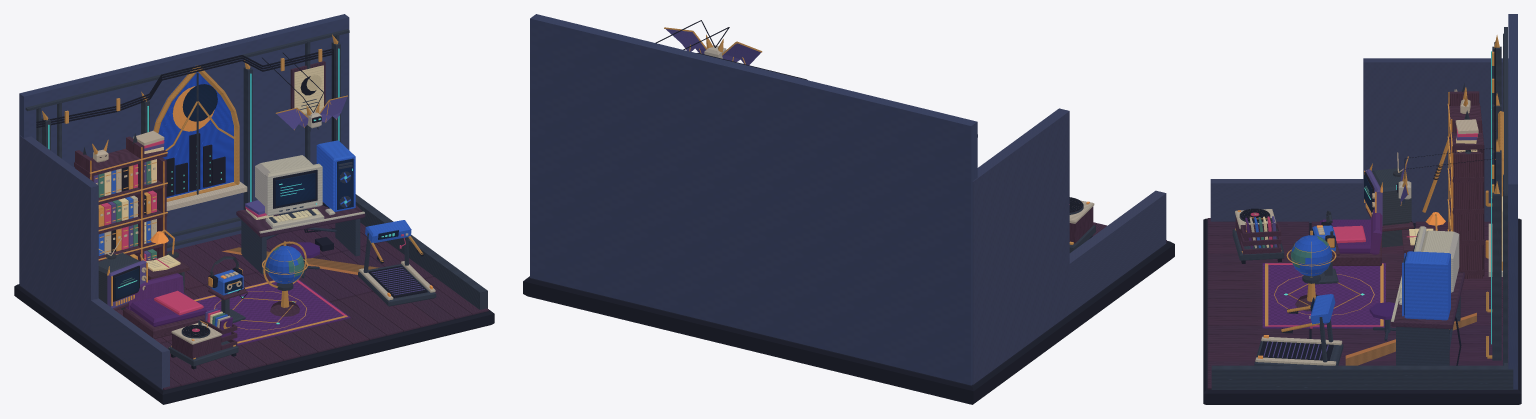
Rendered from diorama.78b659db397b.glb.
The picture shows the model from 3 angles, left to right: view 1: azimuth 30°, elevation 25°; view 2: azimuth 150°, elevation 25°; view 3: azimuth 270°, elevation 25°; orthographic projection. The views are drawn at different scales.
Parts seen in each view (by area): view 1: room-shell, body__play, body__read, body__move, body__collect, body__watch, body__listen, surface__travel, familiar-body, body__travel; view 2: room-shell, familiar-body, body__collect; view 3: room-shell, body__play, body__read, body__move, body__watch, body__collect, surface__travel, body__listen, body__travel, familiar-body.
Boxes of the visible parts, x1=… form: room-shell: x1=14, y1=14, x2=494, y2=404; body__play: x1=236, y1=140, x2=365, y2=278; body__read: x1=74, y1=130, x2=189, y2=292; body__move: x1=358, y1=220, x2=436, y2=306; body__collect: x1=168, y1=308, x2=238, y2=369; body__watch: x1=98, y1=238, x2=147, y2=310; body__listen: x1=208, y1=256, x2=247, y2=323; surface__travel: x1=266, y1=245, x2=304, y2=283; familiar-body: x1=275, y1=95, x2=347, y2=131; body__travel: x1=262, y1=241, x2=308, y2=316; room-shell: x1=523, y1=14, x2=1174, y2=404; familiar-body: x1=664, y1=27, x2=762, y2=64; body__collect: x1=1069, y1=200, x2=1095, y2=252; room-shell: x1=1203, y1=14, x2=1521, y2=404; body__play: x1=1369, y1=226, x2=1464, y2=365; body__read: x1=1402, y1=83, x2=1484, y2=278; body__move: x1=1254, y1=294, x2=1343, y2=365; body__watch: x1=1364, y1=152, x2=1414, y2=247; body__collect: x1=1232, y1=209, x2=1284, y2=263; surface__travel: x1=1290, y1=235, x2=1332, y2=276; body__listen: x1=1312, y1=210, x2=1339, y2=284; body__travel: x1=1286, y1=230, x2=1336, y2=311; familiar-body: x1=1396, y1=156, x2=1411, y2=205.
Bounding box in the file's own units: 9.7 × 5.72 × 7.5.
1 material, 1 textured.
